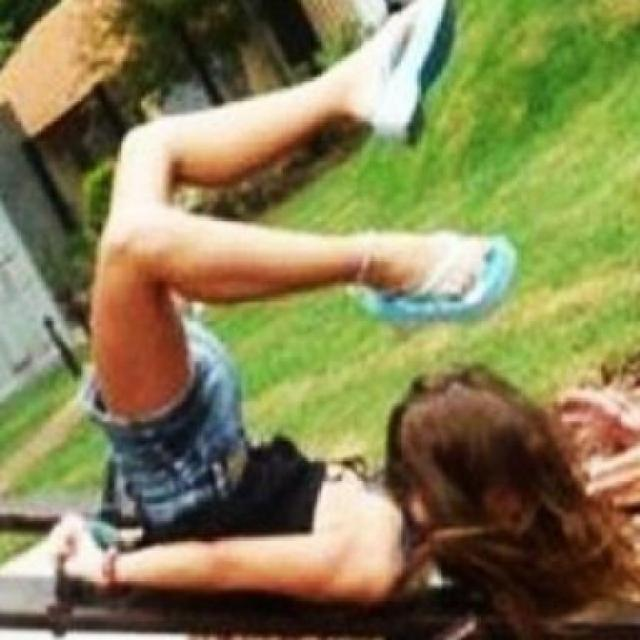fall: (62, 0, 608, 623)
